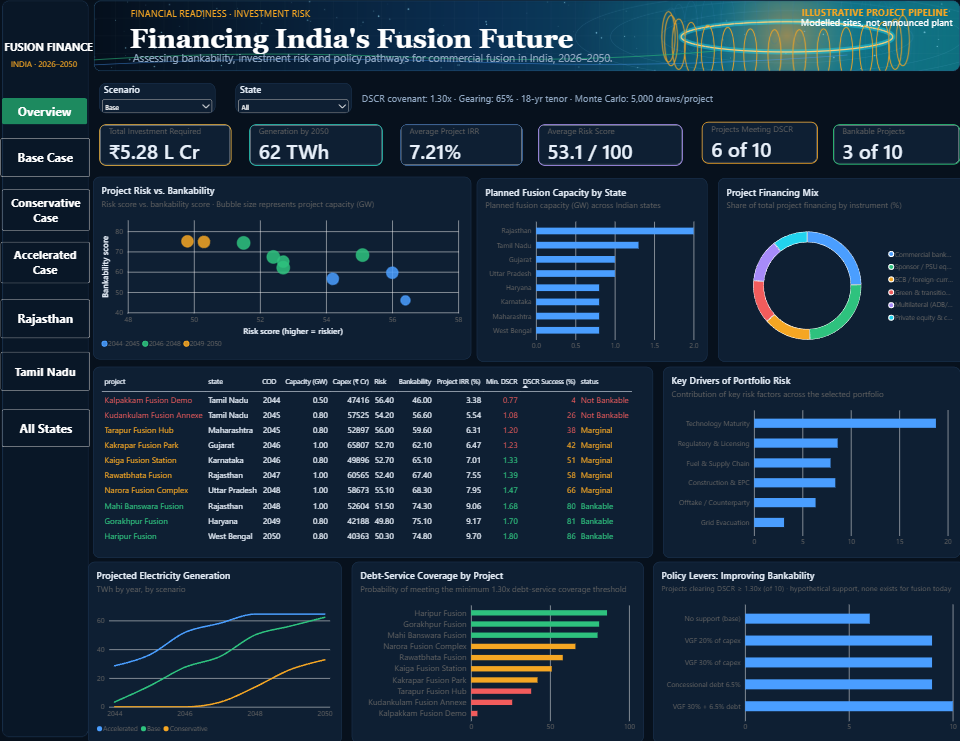

This screenshot's page, from the dashboard's own definition file:
{"tool":"powerbi","page":{"name":"Page 1","canvas":[1920,1480],"ordinal":0},"visuals":[{"type":"textbox","box":[205.8,49.6,990.6,66.4],"z":0},{"type":"slicer","fields":{"Values":["fact_projects.scenario"]},"box":[200,167.5,230,60],"z":1000},{"type":"slicer","fields":{"Values":["dim_state.state"]},"box":[470,167.5,230,60],"z":2000},{"type":"cardVisual","fields":{"Data":["fact_projects.KPI Investment"]},"box":[200,250,262.5,82.5],"z":3000},{"type":"cardVisual","fields":{"Data":["fact_projects.KPI Generation"]},"box":[497.5,250,265,82.5],"z":4000},{"type":"cardVisual","fields":{"Data":["fact_projects.KPI IRR"]},"box":[797.5,250,242.5,82.5],"z":5000},{"type":"cardVisual","fields":{"Data":["fact_projects.KPI Risk"]},"box":[1072.5,250,287.5,82.5],"z":6000},{"type":"cardVisual","fields":{"Data":["fact_projects.KPI DSCR"]},"box":[1396.7,246.7,230,83.3],"z":7000},{"type":"cardVisual","fields":{"Data":["fact_projects.KPI Bankable"]},"box":[1657.5,250,252.5,80],"z":8000},{"type":"scatterChart","title":"Project Risk vs. Bankability","fields":{"Category":["fact_projects.project"],"Series":["fact_projects.cod_decade"],"Size":["Sum(fact_projects.capacity_gw)"],"X":["Avg(fact_projects.risk_score)"],"Y":["Avg(fact_projects.bankability_score)"]},"box":[187.5,355,750,362.5],"z":9000},{"type":"clusteredBarChart","title":"Planned Fusion Capacity by State","fields":{"Category":["fact_projects.state"],"Y":["Sum(fact_projects.capacity_gw)"]},"box":[950,357.5,457.5,365],"z":10000},{"type":"donutChart","title":"Project Financing Mix","fields":{"Category":["fact_capital_stack.instrument"],"Y":["Sum(fact_capital_stack.share_pct)"]},"box":[1427.5,357.5,492.5,365],"z":11000},{"type":"tableEx","fields":{"Values":["fact_projects.project","fact_projects.state","fact_projects.cod_year","fact_projects.capacity_gw","fact_projects.total_capex_inr_cr","fact_projects.risk_score","fact_projects.bankability_score","fact_projects.project_irr_pct","fact_projects.min_dscr","fact_projects.prob_dscr_ok_pct","fact_projects.status"]},"box":[188.5,731.6,1111,379.4],"z":12000},{"type":"clusteredBarChart","title":"Debt-Service Coverage by Project","fields":{"Category":["fact_projects.project"],"Y":["Max(fact_projects.prob_dscr_ok_pct)"]},"box":[702.1,1118.3,579.6,360],"z":13000},{"type":"clusteredBarChart","title":"Key Drivers of Portfolio Risk","fields":{"Category":["dim_risk.dimension"],"Y":["fact_projects.Risk Contribution"]},"box":[1319.3,731.6,590.2,379.4],"z":14000},{"type":"lineChart","title":"Projected Electricity Generation","fields":{"Category":["fact_generation.year"],"Series":["fact_generation.scenario"],"Y":["fact_projects.Gen TWh by Scenario"]},"box":[178.7,1118.3,503,362.6],"z":15000},{"type":"clusteredBarChart","title":"Policy Levers: Improving Bankability","fields":{"Category":["fact_policy_levers.lever"],"Y":["Sum(fact_policy_levers.projects_clearing_dscr)"]},"box":[1300,1117.5,620,360],"z":16000},{"type":"textbox","box":[257.9,104.7,970.2,40.9],"z":17000},{"type":"textbox","box":[12.5,82.5,187.5,37.5],"z":18000},{"type":"textbox","box":[5,120,172.5,25],"z":19000},{"type":"actionButton","box":[7.5,197.5,170,52.5],"z":20000},{"type":"actionButton","box":[5,702.5,177.5,77.5],"z":21000},{"type":"actionButton","box":[5,597.5,177.5,77.5],"z":22000},{"type":"actionButton","box":[7.5,815,175,75],"z":23000},{"type":"actionButton","box":[5,277.5,177.5,77.5],"z":24000},{"type":"actionButton","box":[7.5,380,175,82.5],"z":25000},{"type":"actionButton","box":[5,482.5,177.5,82.5],"z":26000},{"type":"textbox","box":[199.1,17.9,486.1,32.2],"z":27000},{"type":"textbox","box":[689.4,186,761.3,37.2],"z":28000},{"type":"textbox","box":[1592.1,14.9,300.1,34.7],"z":29000},{"type":"textbox","box":[1572.3,34.7,337.3,34.7],"z":29001}]}

Visuals, with their boxes in screenshot pixels (x1, y1, x2, y2), scaled from the page's 1920x1480 canvas onto the 960x741 screenshot:
textbox: region(103, 25, 598, 58)
slicer - fact_projects.scenario: region(100, 84, 215, 114)
slicer - dim_state.state: region(235, 84, 350, 114)
cardVisual - fact_projects.KPI Investment: region(100, 125, 231, 166)
cardVisual - fact_projects.KPI Generation: region(249, 125, 381, 166)
cardVisual - fact_projects.KPI IRR: region(399, 125, 520, 166)
cardVisual - fact_projects.KPI Risk: region(536, 125, 680, 166)
cardVisual - fact_projects.KPI DSCR: region(698, 124, 813, 165)
cardVisual - fact_projects.KPI Bankable: region(829, 125, 955, 165)
"Project Risk vs. Bankability" scatterChart: region(94, 178, 469, 359)
"Planned Fusion Capacity by State" clusteredBarChart: region(475, 179, 704, 362)
"Project Financing Mix" donutChart: region(714, 179, 959, 362)
tableEx - fact_projects.project x fact_projects.state: region(94, 366, 650, 556)
"Debt-Service Coverage by Project" clusteredBarChart: region(351, 560, 641, 740)
"Key Drivers of Portfolio Risk" clusteredBarChart: region(660, 366, 955, 556)
"Projected Electricity Generation" lineChart: region(89, 560, 341, 740)
"Policy Levers: Improving Bankability" clusteredBarChart: region(650, 560, 959, 740)
textbox: region(129, 52, 614, 73)
textbox: region(6, 41, 100, 60)
textbox: region(2, 60, 89, 73)
actionButton: region(4, 99, 89, 125)
actionButton: region(2, 352, 91, 391)
actionButton: region(2, 299, 91, 338)
actionButton: region(4, 408, 91, 446)
actionButton: region(2, 139, 91, 178)
actionButton: region(4, 190, 91, 232)
actionButton: region(2, 242, 91, 283)
textbox: region(100, 9, 343, 25)
textbox: region(345, 93, 725, 112)
textbox: region(796, 7, 946, 25)
textbox: region(786, 17, 955, 35)
